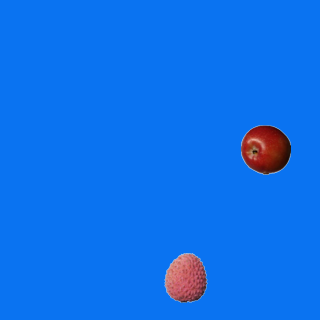Apple Braeburn: (240, 124, 290, 174)
Lychee: (160, 252, 210, 302)
